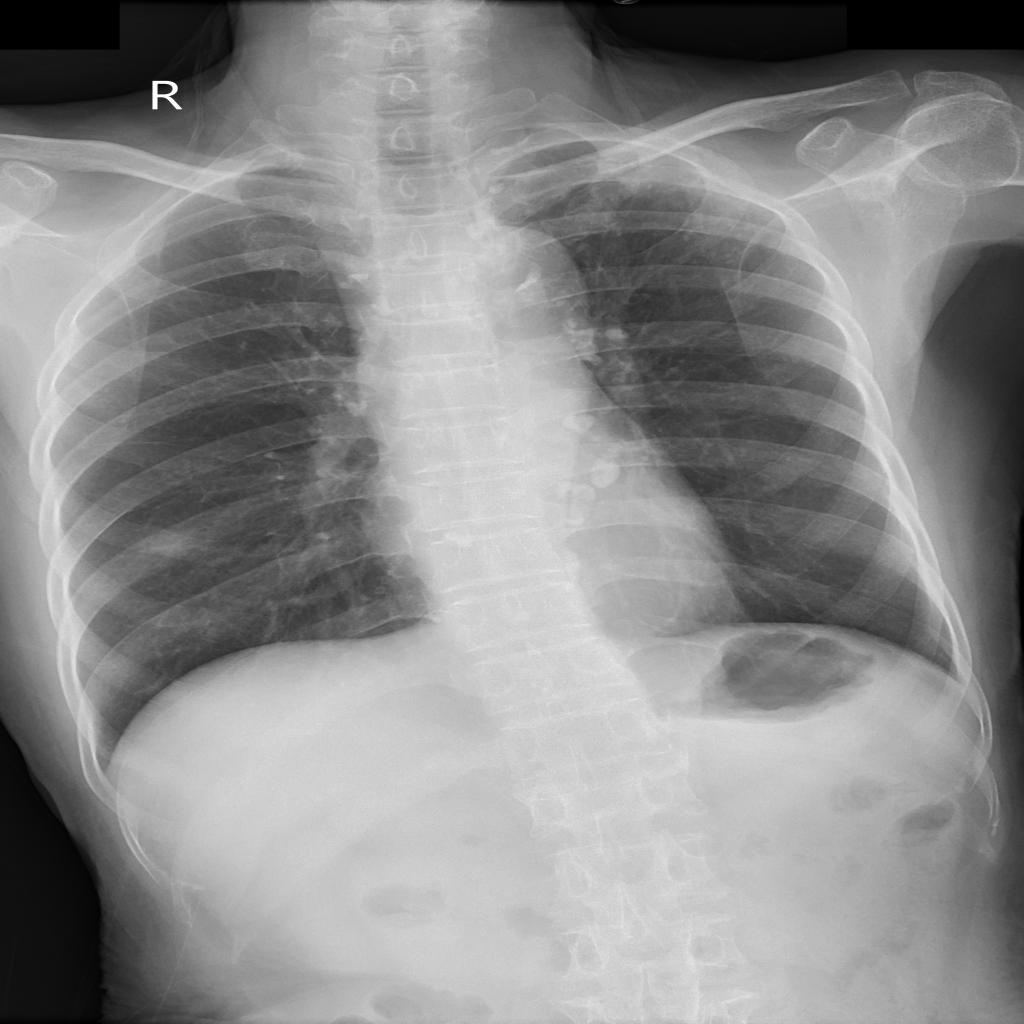Nodule: (564, 320, 603, 366), (558, 484, 599, 525), (590, 459, 623, 487), (560, 414, 594, 433), (608, 328, 630, 343), (488, 184, 507, 198)
